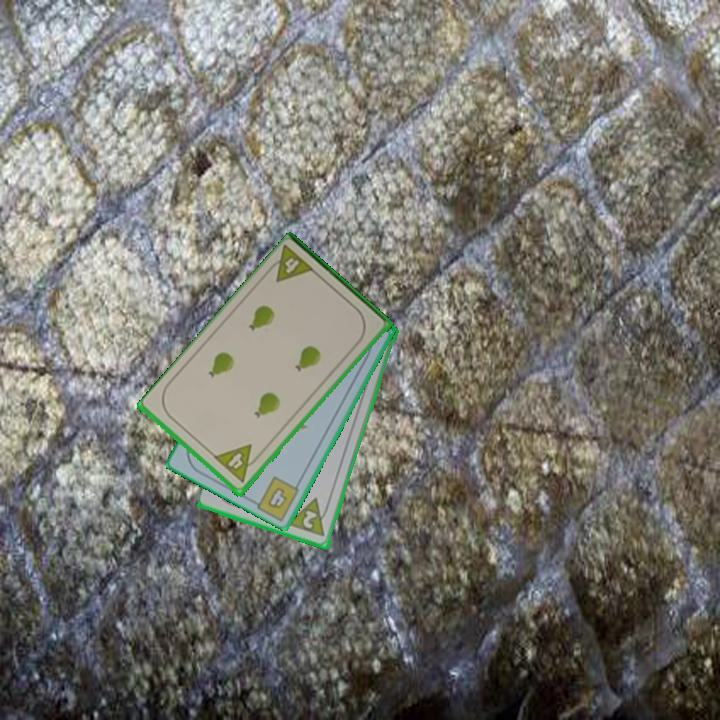2p: (285, 495, 333, 540)
4b: (264, 484, 290, 512)
4p: (262, 242, 318, 286), (211, 441, 264, 486)
